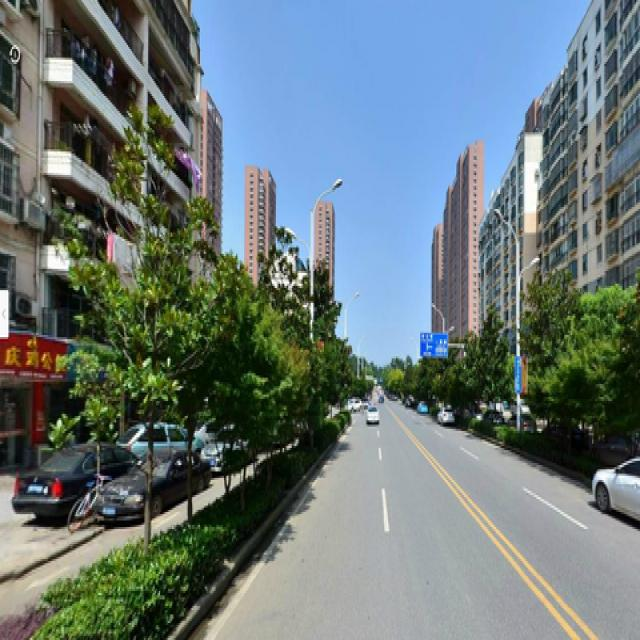magn: (64, 128, 215, 570)
